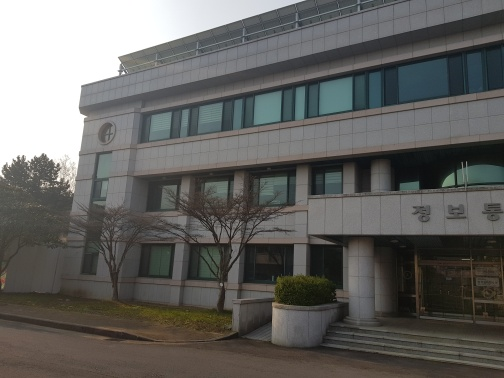Information Telecommunication Center: (76, 27, 497, 327), (391, 241, 494, 322), (397, 195, 474, 229)
